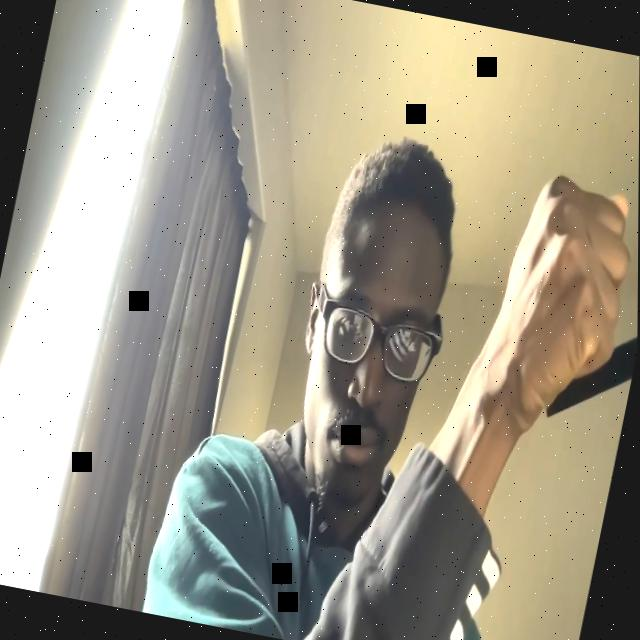Rock: (477, 163, 639, 442)
